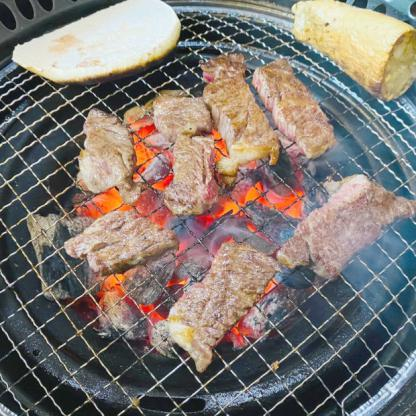Carne: (158, 245, 280, 364), (245, 61, 340, 153), (68, 207, 176, 280), (211, 56, 268, 179), (155, 92, 214, 203), (69, 104, 140, 186)
